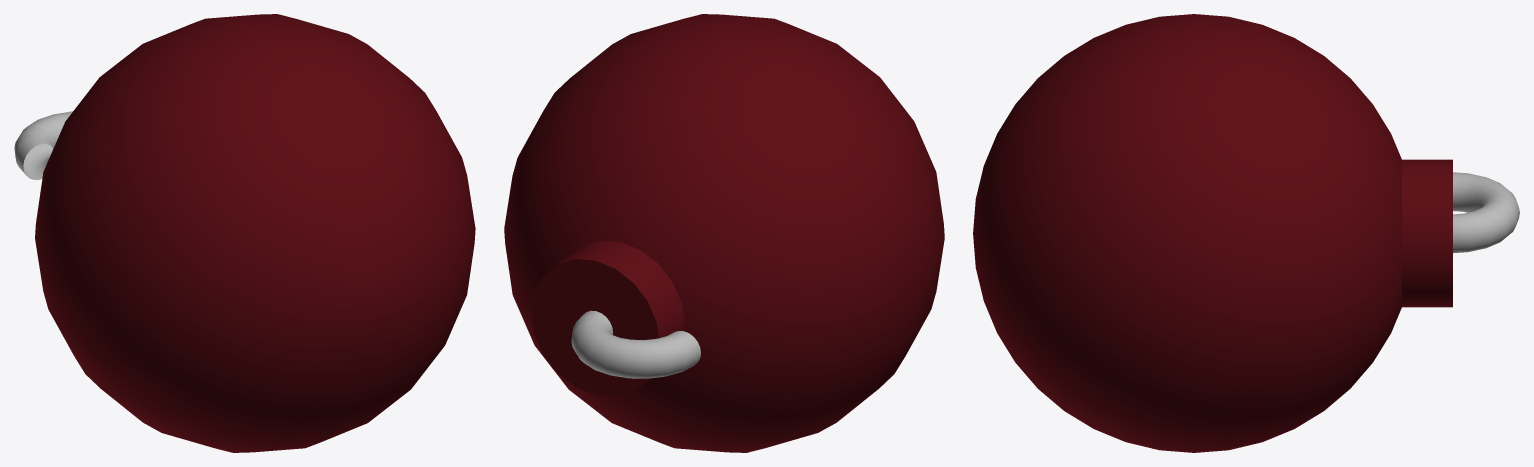
Rendered from Bomb.obj.
The picture shows the model from 3 angles, left to right: view 1: azimuth 30°, elevation 25°; view 2: azimuth 150°, elevation 25°; view 3: azimuth 270°, elevation 25°; orthographic projection.
Parts seen in each view (by area): view 1: pTorus2; view 2: pTorus2; view 3: pTorus2.
Part boxes in pixels (bbox=[...]): pTorus2: bbox=[14, 14, 475, 452]; pTorus2: bbox=[504, 14, 944, 452]; pTorus2: bbox=[973, 14, 1519, 452].
Size of the model in its own units: 0.9309 by 0.9309 by 1.15.
